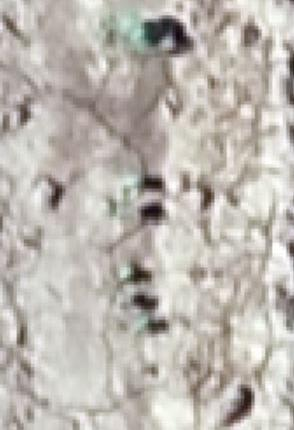cotton: (124, 19, 146, 47), (124, 174, 144, 192), (135, 311, 151, 332), (119, 262, 131, 279)
